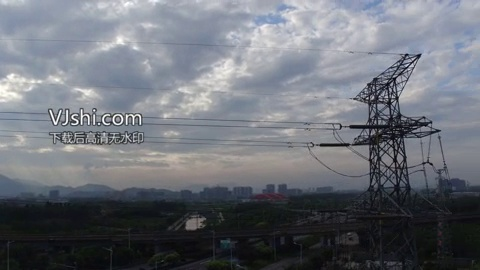tower_body: (334, 51, 434, 229)
tower_foot: (361, 183, 414, 226)
tower_head: (338, 54, 423, 103)
